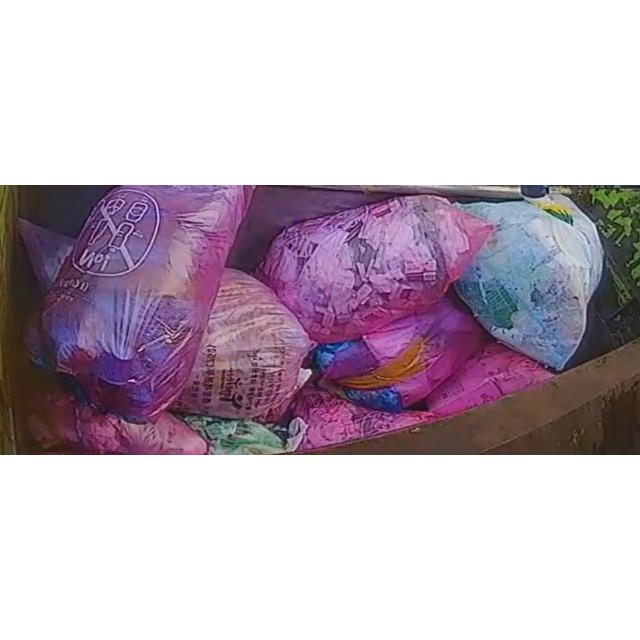other_trashbag: (42, 185, 254, 422), (256, 195, 492, 344), (455, 195, 602, 371), (171, 269, 311, 418), (312, 296, 488, 411), (28, 394, 208, 455), (290, 384, 435, 451), (426, 344, 554, 416)
